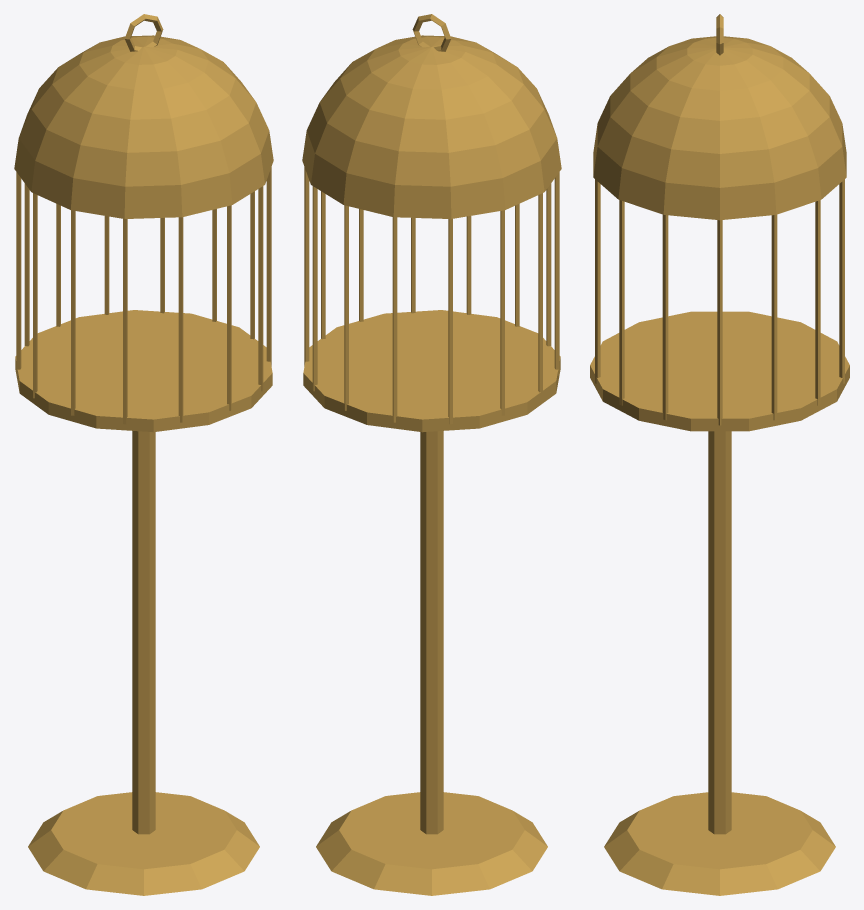
File: parrot_cage.glb
3 views of the same model, side by side, from view 1: azimuth 30°, elevation 25°; view 2: azimuth 150°, elevation 25°; view 3: azimuth 270°, elevation 25° (orthographic).
Visible parts, largest first — view 1: bars_brass, body_brass; view 2: bars_brass, body_brass; view 3: body_brass, bars_brass.
Boxes of the visible parts, bbox=[...] form: bars_brass: bbox=[14, 14, 273, 424]; body_brass: bbox=[15, 310, 272, 895]; bars_brass: bbox=[302, 14, 561, 424]; body_brass: bbox=[303, 310, 560, 895]; body_brass: bbox=[590, 311, 849, 895]; bars_brass: bbox=[593, 14, 846, 425].
Bounding box in the file's own units: 0.56 × 1.98 × 0.56.
